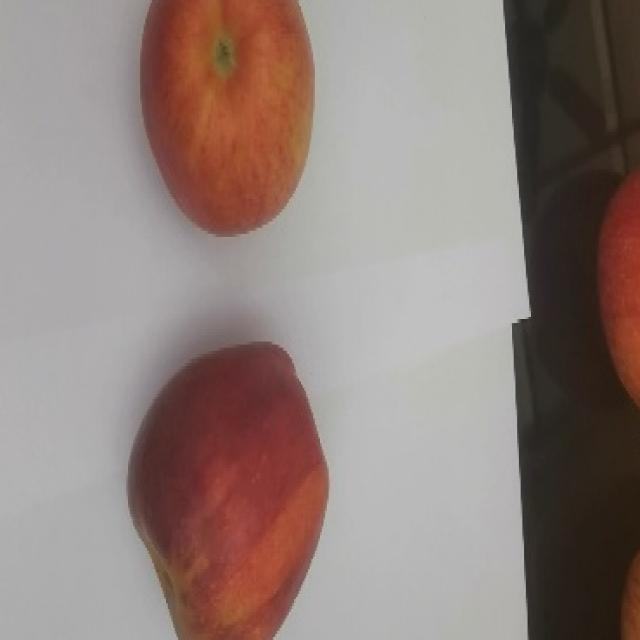Apple: (125, 340, 330, 639), (138, 0, 315, 236), (595, 167, 639, 408)
